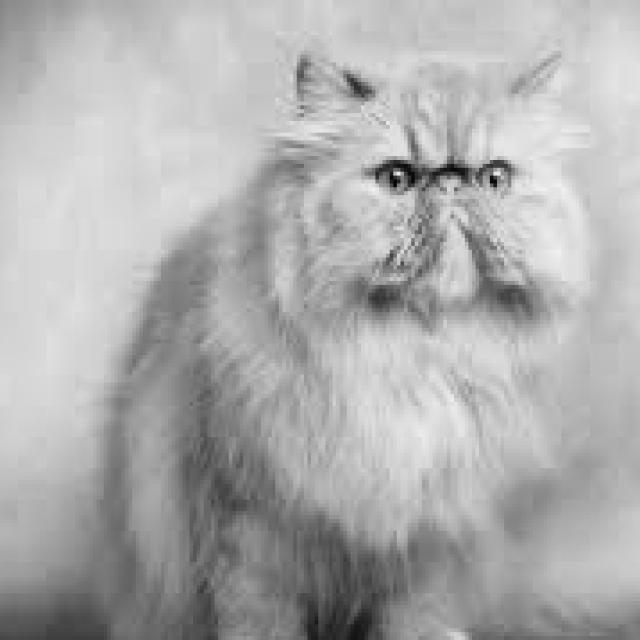iran: (349, 98, 548, 314)
